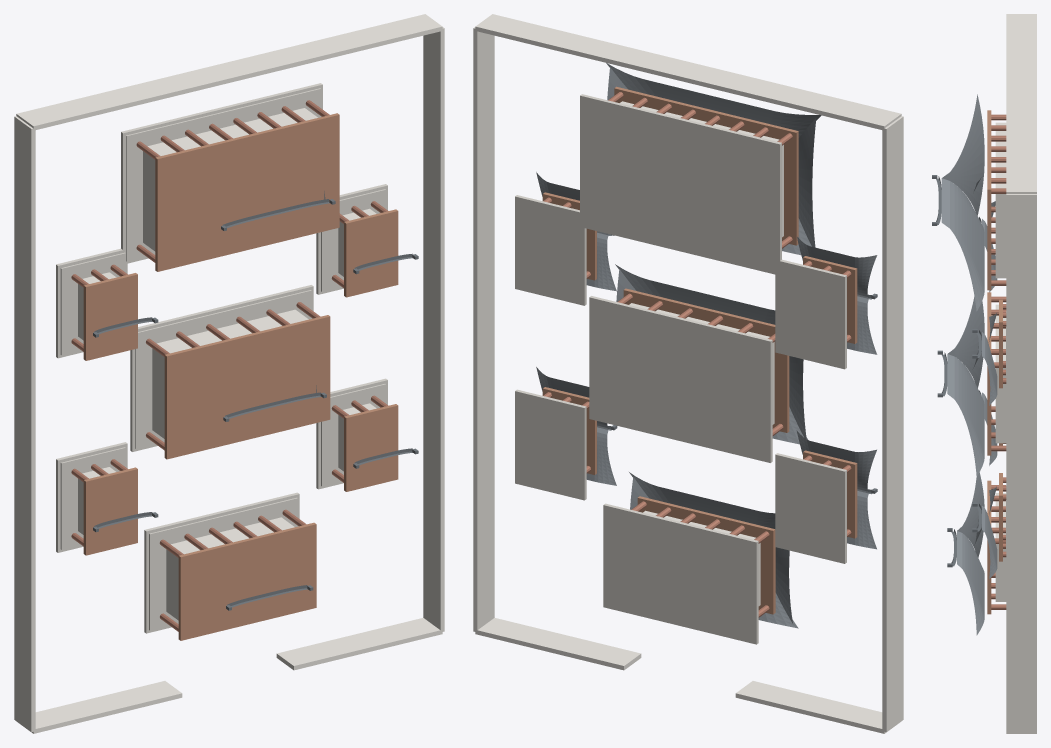
The model's file is heritage_complex_multicourt.glb.
3 views of the same model, side by side, from view 1: azimuth 30°, elevation 25°; view 2: azimuth 150°, elevation 25°; view 3: azimuth 270°, elevation 25° (orthographic). The views are drawn at different scales.
Parts seen in each view (by area): view 1: part_019, part_045, part_140, part_139, part_069, part_138, part_001, part_031, part_102, part_117, part_132, part_087 (+17 smaller); view 2: part_000, part_030, part_054, part_140, part_139, part_138, part_123, part_093, part_108, part_078, part_026, part_050 (+14 smaller); view 3: part_139, part_138, part_026, part_050, part_074, part_002, part_032, part_019, part_056, part_104, part_089, part_045 (+5 smaller).
Boxes of the visible parts, x1,y1,x2,y2 form: part_019: [155, 113, 339, 271]; part_045: [164, 315, 330, 459]; part_140: [14, 116, 35, 732]; part_139: [423, 27, 444, 632]; part_069: [178, 522, 316, 640]; part_138: [16, 14, 442, 130]; part_001: [126, 88, 320, 261]; part_031: [135, 290, 311, 448]; part_102: [344, 404, 398, 491]; part_117: [83, 273, 137, 360]; part_132: [83, 467, 137, 555]; part_087: [344, 209, 398, 297]; part_000: [580, 94, 781, 275]; part_030: [589, 296, 772, 462]; part_054: [603, 503, 758, 644]; part_140: [882, 116, 903, 732]; part_139: [473, 27, 494, 631]; part_138: [475, 14, 901, 130]; part_123: [775, 453, 846, 563]; part_093: [515, 389, 586, 500]; part_108: [775, 259, 846, 369]; part_078: [515, 195, 586, 305]; part_026: [606, 63, 821, 255]; part_050: [615, 264, 807, 444]; part_139: [1006, 194, 1036, 732]; part_138: [1006, 14, 1036, 193]; part_026: [941, 94, 984, 311]; part_050: [947, 296, 984, 476]; part_074: [957, 472, 984, 635]; part_002: [995, 122, 1006, 278]; part_032: [995, 304, 1006, 443]; part_019: [987, 110, 991, 290]; part_056: [995, 493, 1006, 601]; part_104: [982, 486, 997, 578]; part_089: [982, 313, 997, 405]; part_045: [987, 292, 991, 455].
Bounding box in the file's own units: 44.45 × 62.45 × 10.96.
